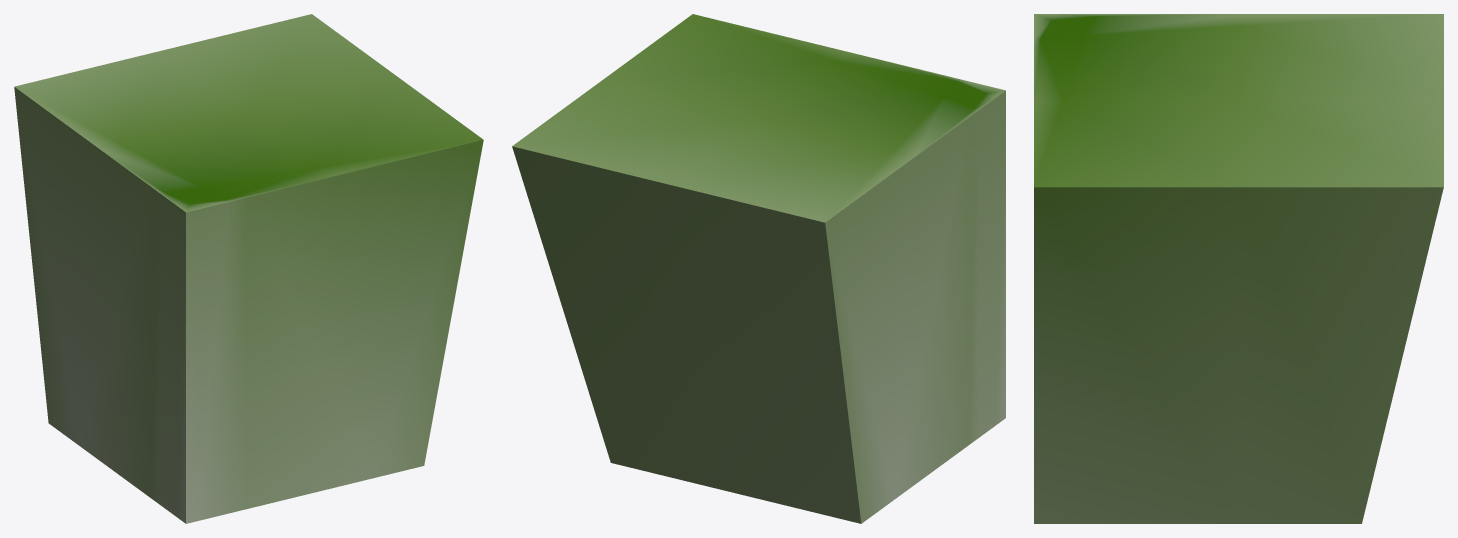
The model's file is T6DirB.fbx.
3 renders of one model, left to right at view 1: azimuth 30°, elevation 25°; view 2: azimuth 150°, elevation 25°; view 3: azimuth 270°, elevation 25°, orthographic. The views are drawn at different scales.
Parts seen in each view (by area): view 1: 3, 1, 4, 2; view 2: 4, 2, 3, 1; view 3: 1, 2, 3, 4.
Part boxes in pixels (<box>): 3: <box>100,113,334,523</box>; 1: <box>249,77,483,487</box>; 4: <box>14,50,248,460</box>; 2: <box>163,14,397,112</box>; 4: <box>668,118,915,523</box>; 2: <box>512,80,758,485</box>; 3: <box>759,52,1005,483</box>; 1: <box>602,14,848,118</box>; 1: <box>1034,100,1238,523</box>; 2: <box>1239,100,1443,523</box>; 3: <box>1034,14,1238,100</box>; 4: <box>1239,14,1443,100</box>.
Bounding box in the file's own units: 200 × 200 × 200.
